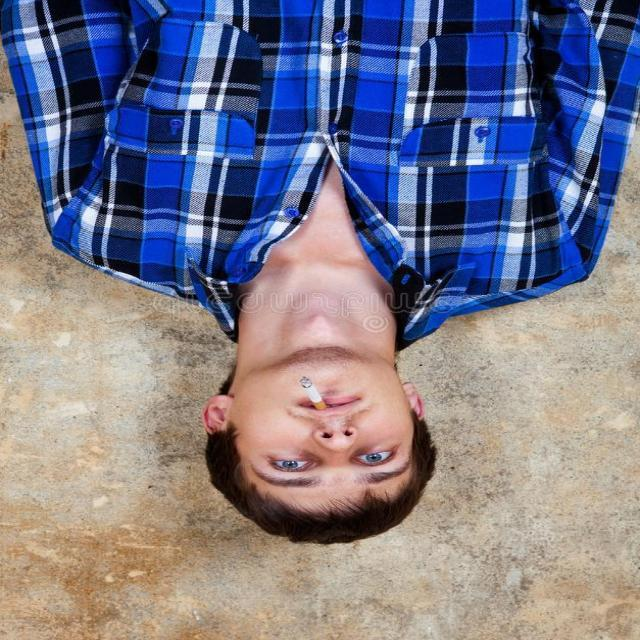cigarette: (291, 369, 341, 414)
